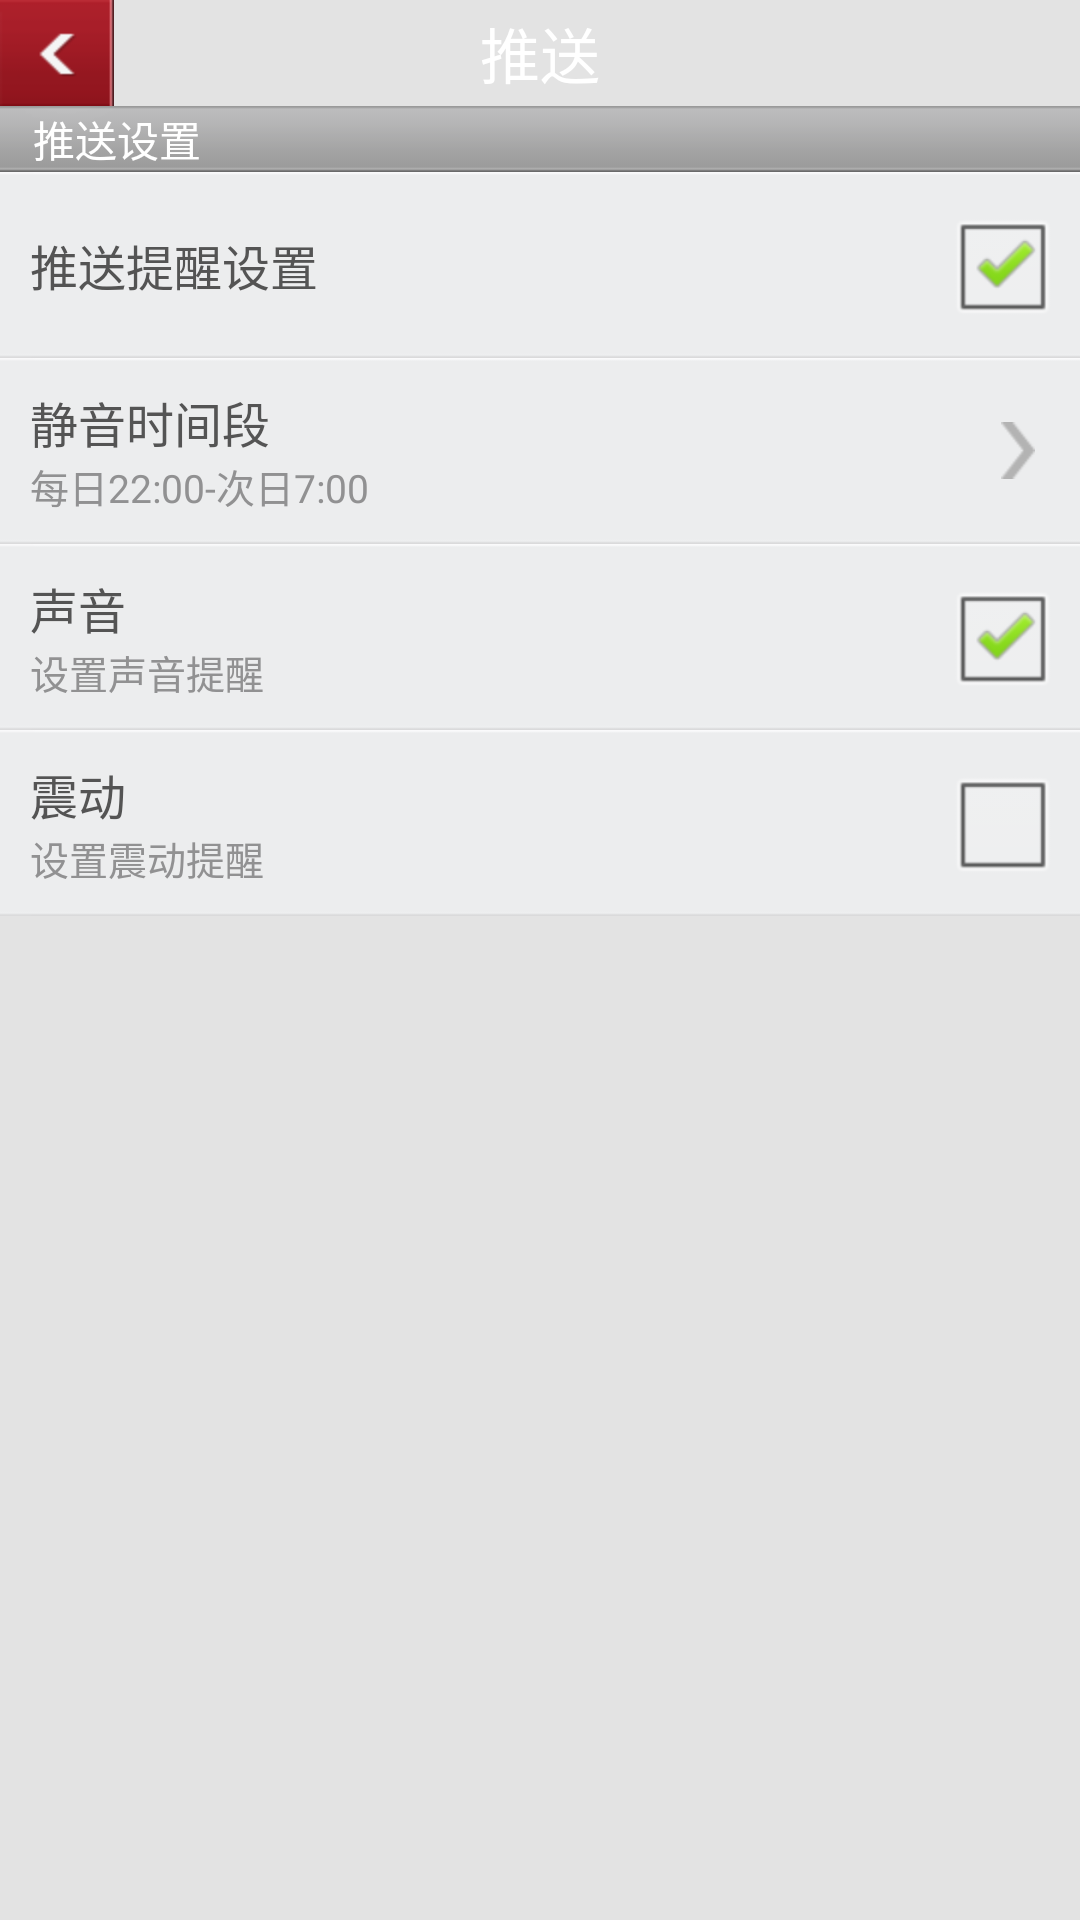

Icon bounding boxes for this 1080w x 1920h phone screenshot, format (x1, y1, x2, y2):
preference right: (1001, 422, 1035, 479)
